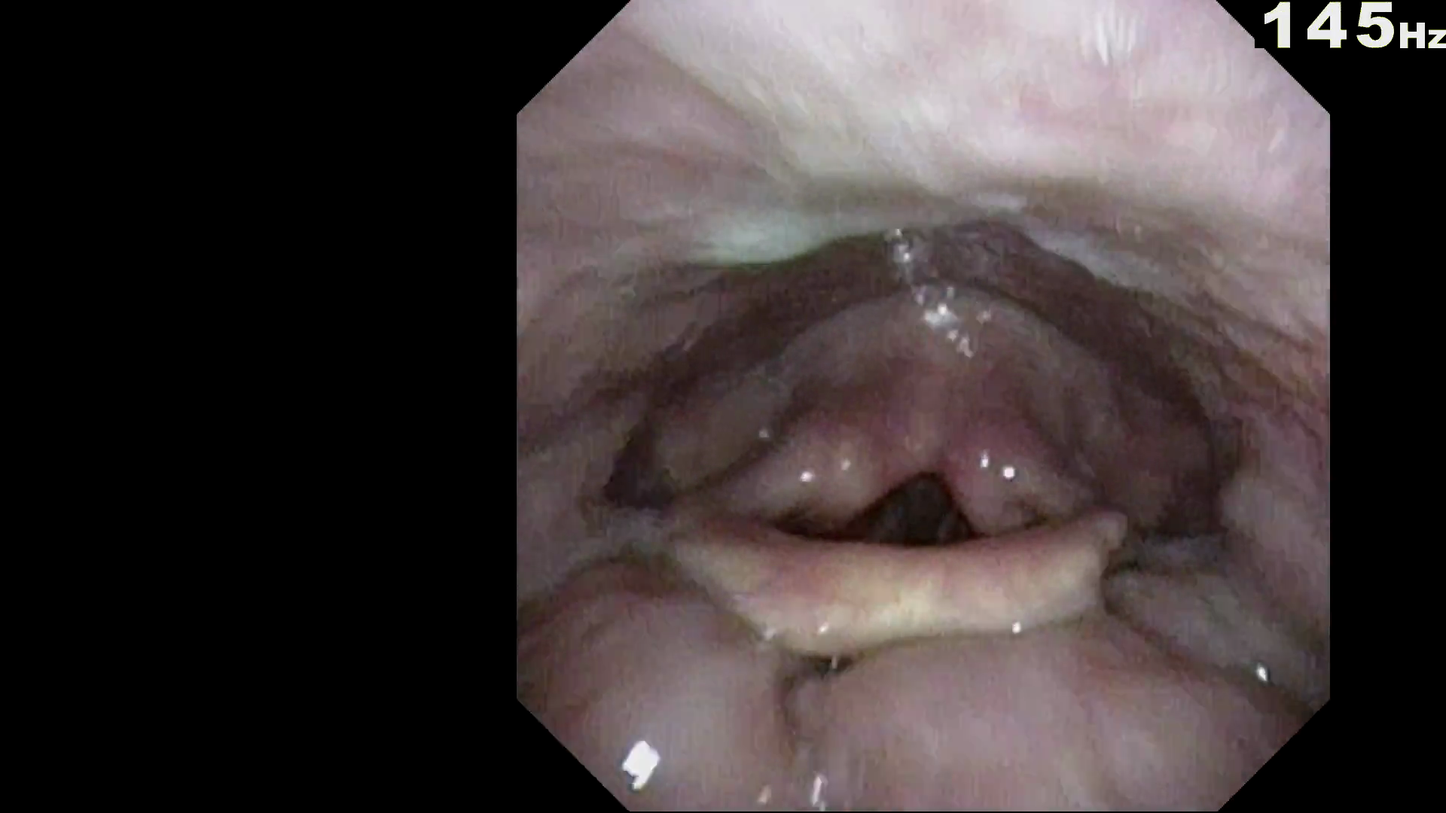epiglottis: (676, 504, 1202, 640)
trachea: (881, 462, 985, 543)
